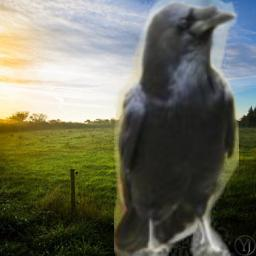Crow: (114, 0, 239, 256)
